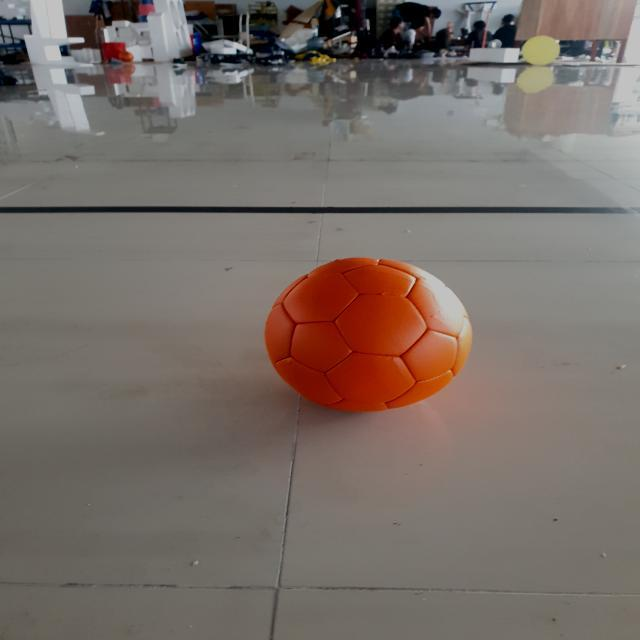bola: (256, 253, 477, 422)
